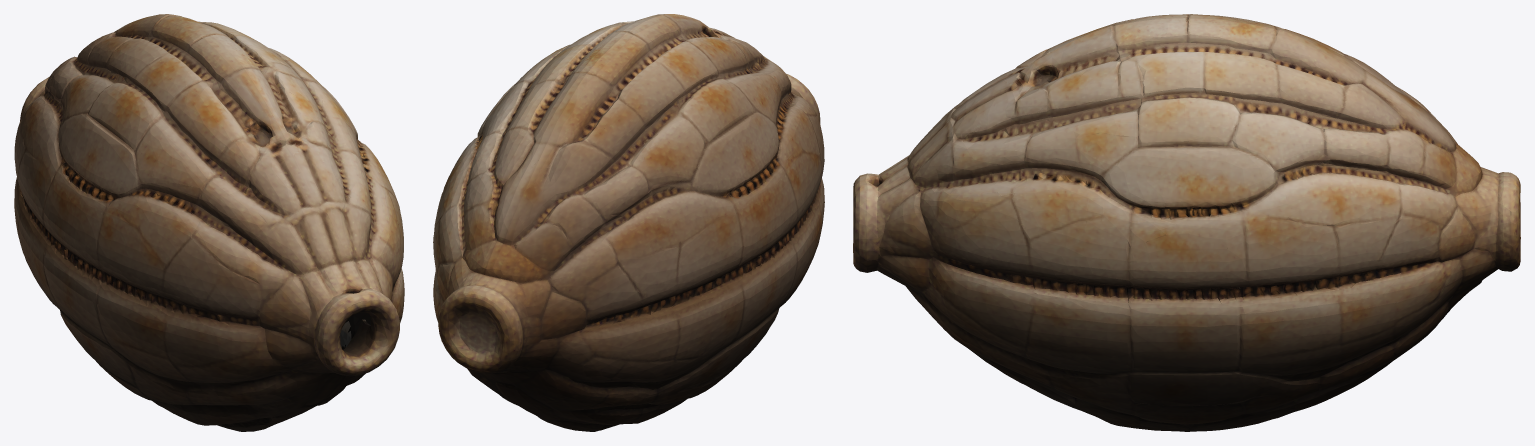
3 renders of one model, left to right at view 1: azimuth 30°, elevation 25°; view 2: azimuth 150°, elevation 25°; view 3: azimuth 270°, elevation 25°, orthographic. The views are drawn at different scales.
Parts seen in each view (by area): view 1: world; view 2: world; view 3: world.
Part boxes in pixels (x1,y1,x2,y2): world: (14, 14, 404, 431); world: (433, 14, 824, 431); world: (853, 14, 1520, 431).
Size of the model in its own units: 0.5377 by 0.6788 by 1.
Materials: 1 (1 with a texture image).
